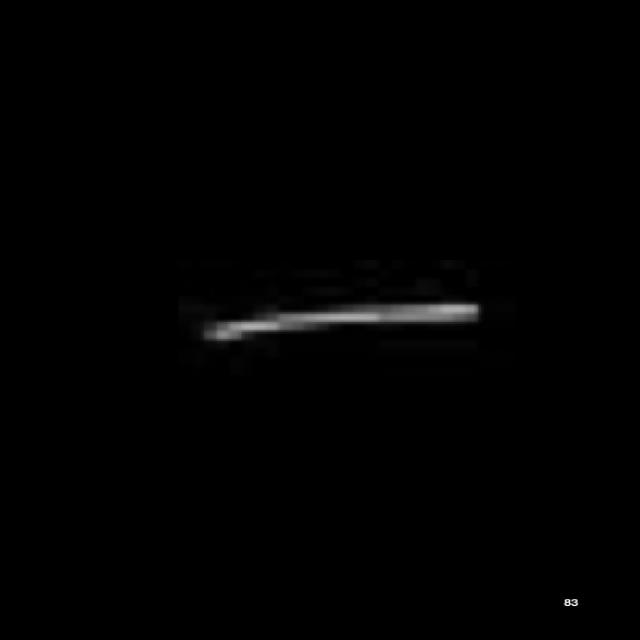1 -one-: (199, 293, 495, 352)
